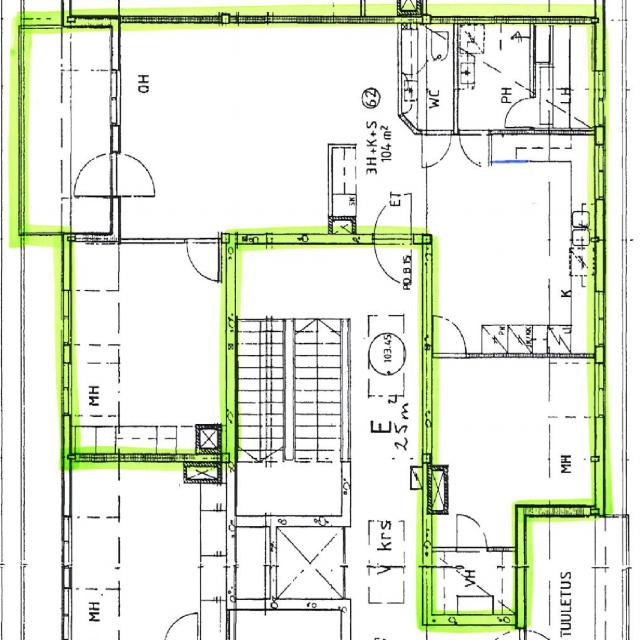door: (110, 154, 158, 197), (72, 154, 120, 197), (374, 233, 410, 285), (374, 193, 410, 244), (434, 317, 467, 358), (187, 238, 219, 279), (457, 514, 486, 552), (459, 129, 488, 167), (422, 129, 450, 166), (503, 97, 535, 127)
